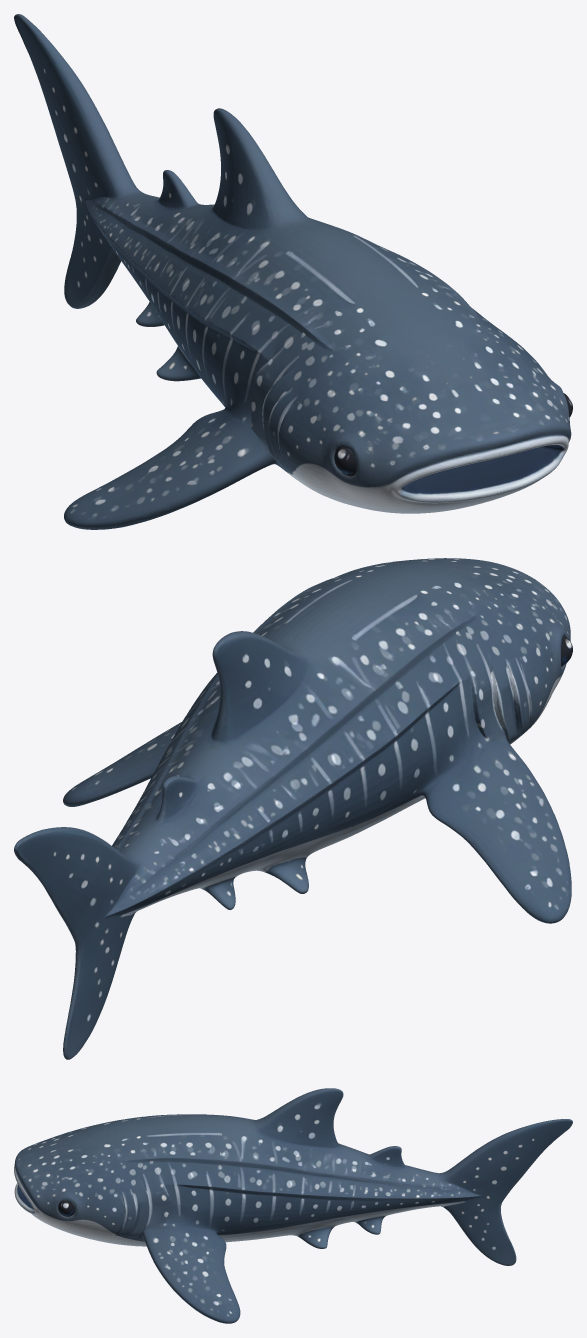
Rendered from Tiburón-ballena.glb.
The picture shows the model from 3 angles, top to bottom: view 1: azimuth 30°, elevation 25°; view 2: azimuth 150°, elevation 25°; view 3: azimuth 270°, elevation 25°; orthographic projection. The views are drawn at different scales.
Parts seen in each view (by area): view 1: tripo_node_ed9e2a80-31b3-47b3-adac-65d1e3c6bbd6; view 2: tripo_node_ed9e2a80-31b3-47b3-adac-65d1e3c6bbd6; view 3: tripo_node_ed9e2a80-31b3-47b3-adac-65d1e3c6bbd6.
Boxes of the visible parts, x1=… form: tripo_node_ed9e2a80-31b3-47b3-adac-65d1e3c6bbd6: x1=14, y1=14, x2=572, y2=529; tripo_node_ed9e2a80-31b3-47b3-adac-65d1e3c6bbd6: x1=14, y1=558, x2=572, y2=1059; tripo_node_ed9e2a80-31b3-47b3-adac-65d1e3c6bbd6: x1=14, y1=1088, x2=572, y2=1323.
Bounding box in the file's own units: 0.5907 × 0.3501 × 0.9992.
1 material, 1 textured.
